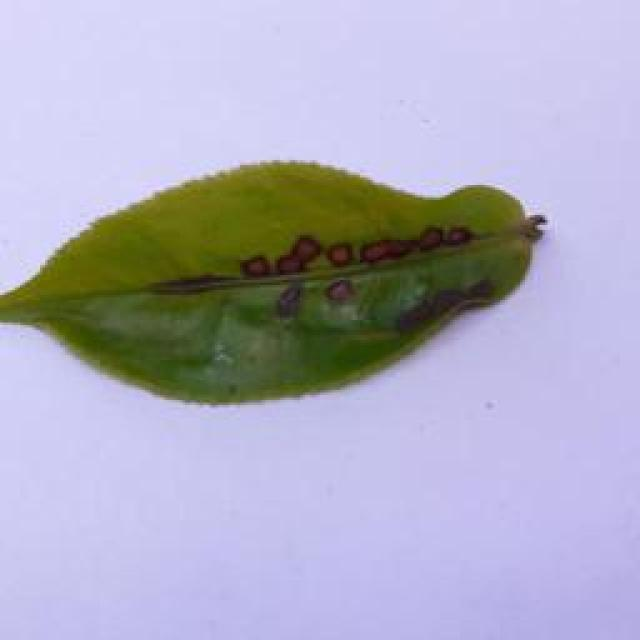Helopeltis: (1, 135, 564, 415)
